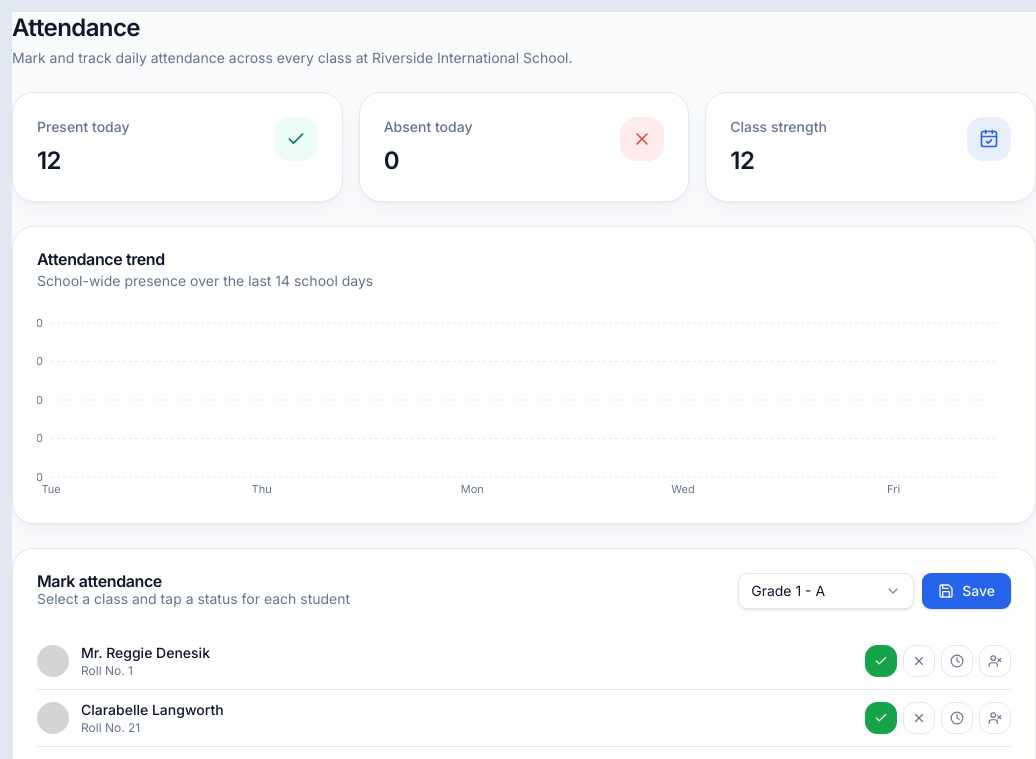
Test: AttendancePage — marking attendance › moves a student from present to absent when its Absent button is clicked
Click the 1st button named "Absent". click: point(919, 661)
box: [903,645,935,677]
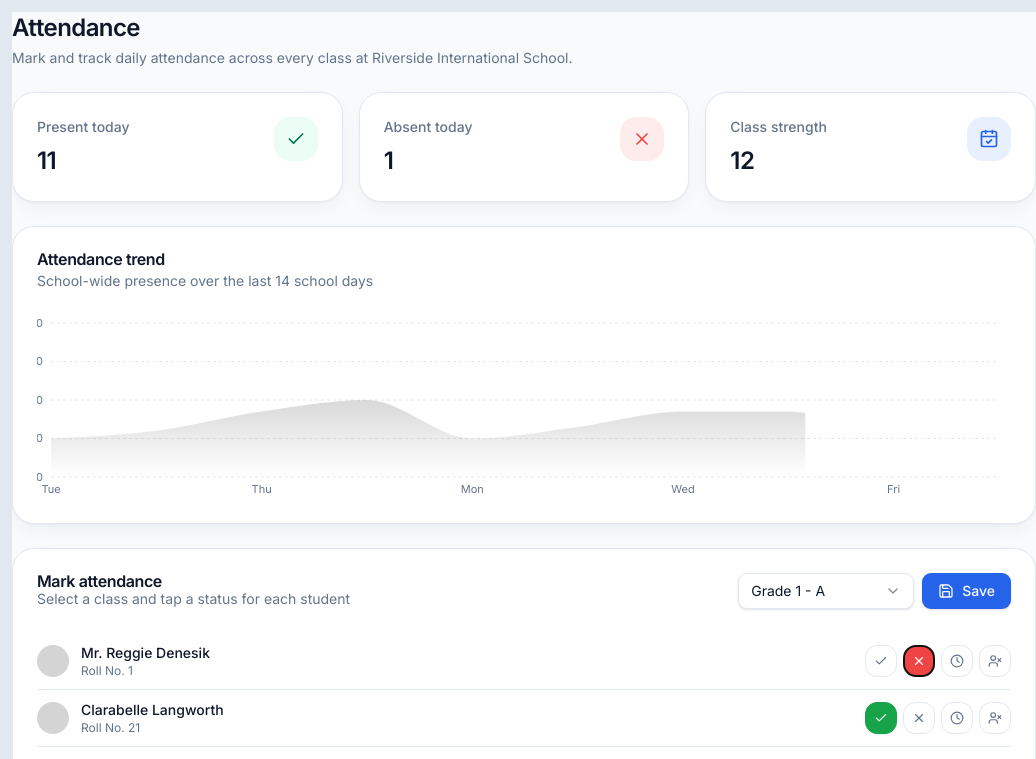
Expected: the text "11" is shown, [37,146,56,175]
Expected: the text "1" is shown, [384,146,393,175]
